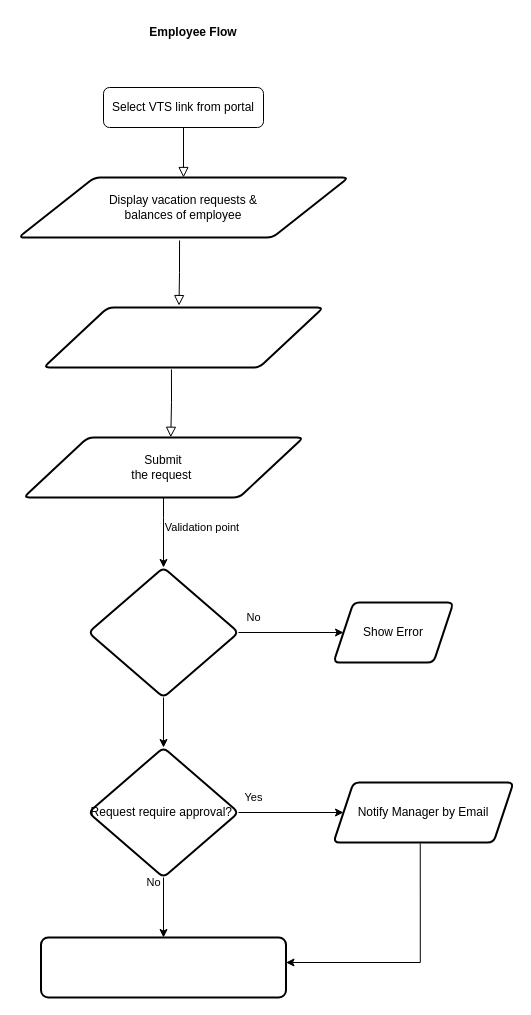
Image size: 531x1015. Some labels were removed from this diagram. The shapes that lost their labels are listed below. From the top down, each one's centre as x and y in pixels, then its label:
At point (183, 337): "Select vacation type from categories & fill the form".
At point (163, 632): "Valid submitted info?".
At point (163, 967): "Save Request in DB (Status Pending approval)".
